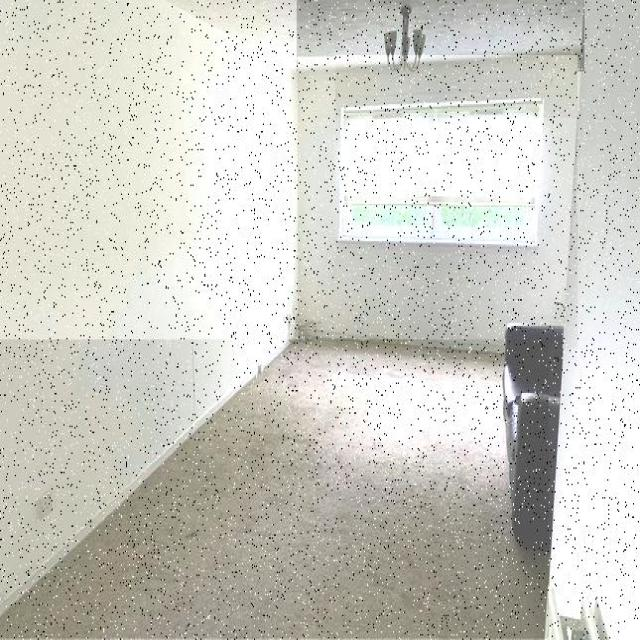Wall: (0, 0, 297, 613), (0, 341, 549, 639), (299, 58, 577, 348), (171, 0, 584, 71), (336, 56, 577, 118)
